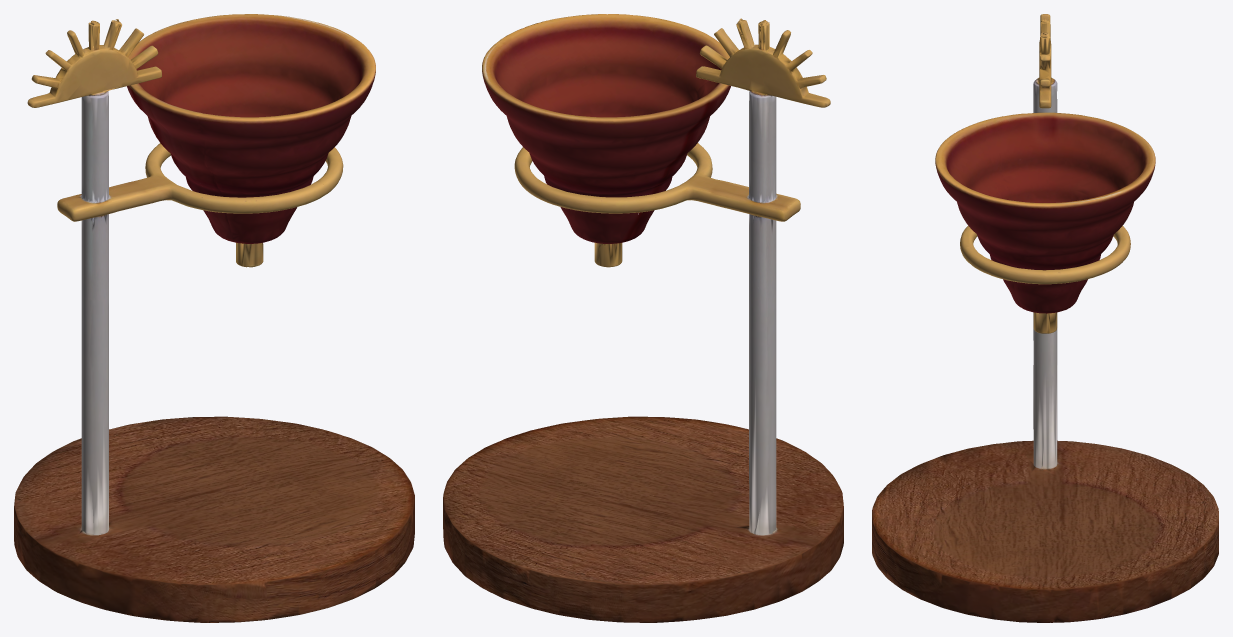
Rendered from suporte-coado.glb.
The picture shows the model from 3 angles, left to right: view 1: azimuth 30°, elevation 25°; view 2: azimuth 150°, elevation 25°; view 3: azimuth 270°, elevation 25°; orthographic projection. The views are drawn at different scales.
Visible parts, largest first — view 1: tripo_node_98f7ee37-224e-47d0-bd9d-a4629e18223a; view 2: tripo_node_98f7ee37-224e-47d0-bd9d-a4629e18223a; view 3: tripo_node_98f7ee37-224e-47d0-bd9d-a4629e18223a.
Part boxes in pixels (x1,y1,x2,y2): tripo_node_98f7ee37-224e-47d0-bd9d-a4629e18223a: (14,14,414,622); tripo_node_98f7ee37-224e-47d0-bd9d-a4629e18223a: (443,14,843,622); tripo_node_98f7ee37-224e-47d0-bd9d-a4629e18223a: (872,14,1218,622).
Size of the model in its own units: 0.6751 by 0.9797 by 0.6432.
1 material, 1 textured.
